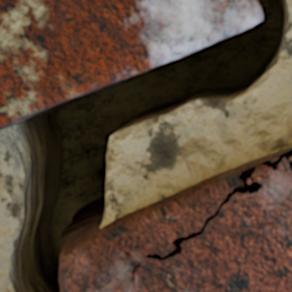brick: (0, 0, 262, 128), (60, 150, 291, 291)
crack: (2, 0, 289, 291), (144, 148, 291, 260)
